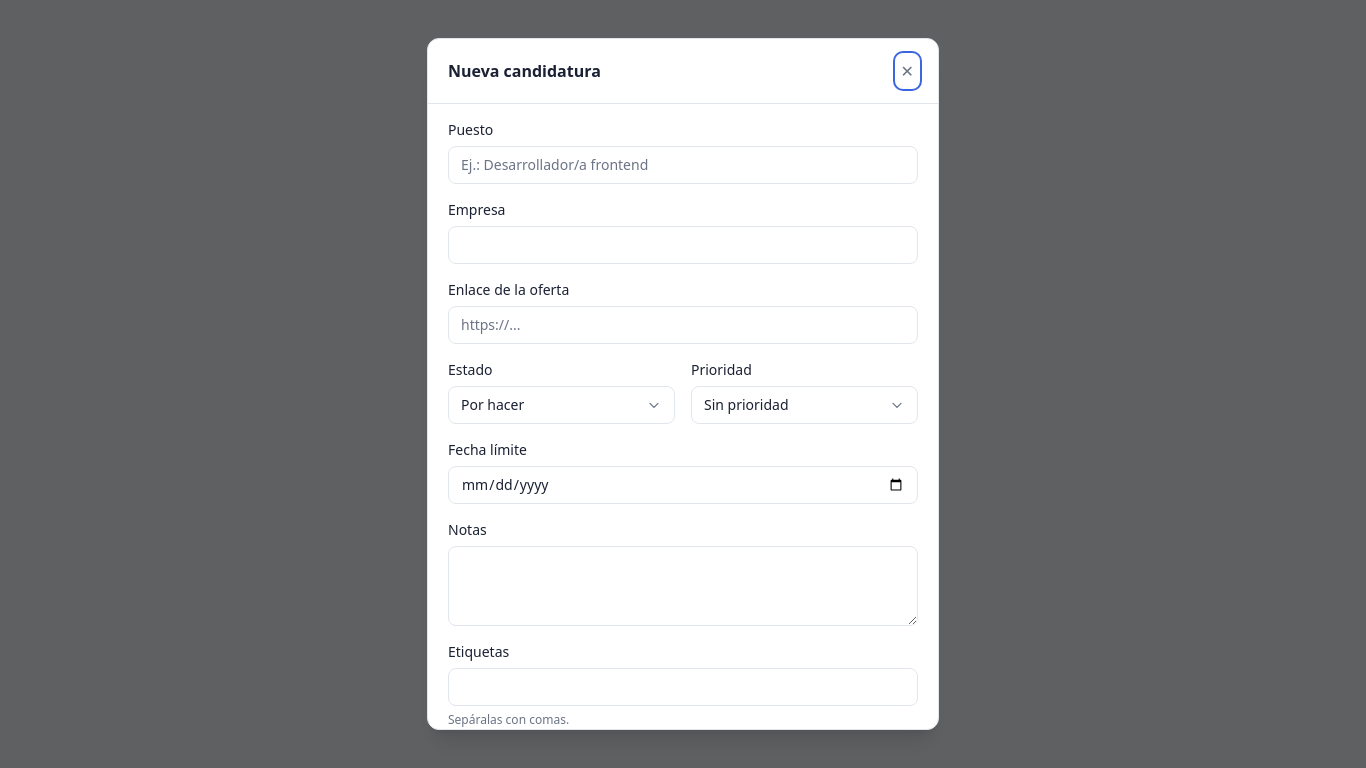
Test: CreateCardModal › valida el título y la URL sin enviar nada
This screenshot has width=1366, height=768.
Type "no-es-url" into the field labelled "Enlace de la oferta".
click(683, 325); type("no-es-url")  # box [448,306,918,344]
(page scrolled)
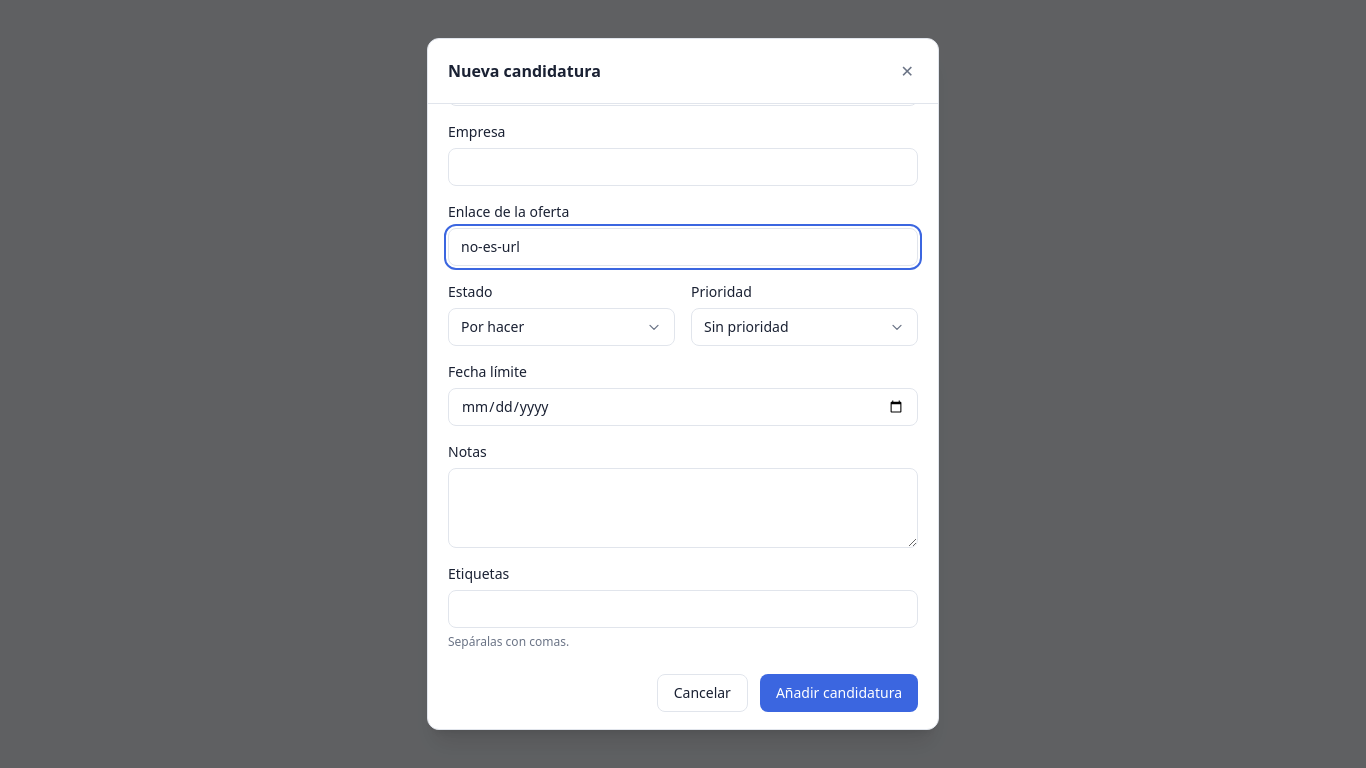
Click the button "Añadir candidatura".
click(839, 693)  # box [760,674,918,712]
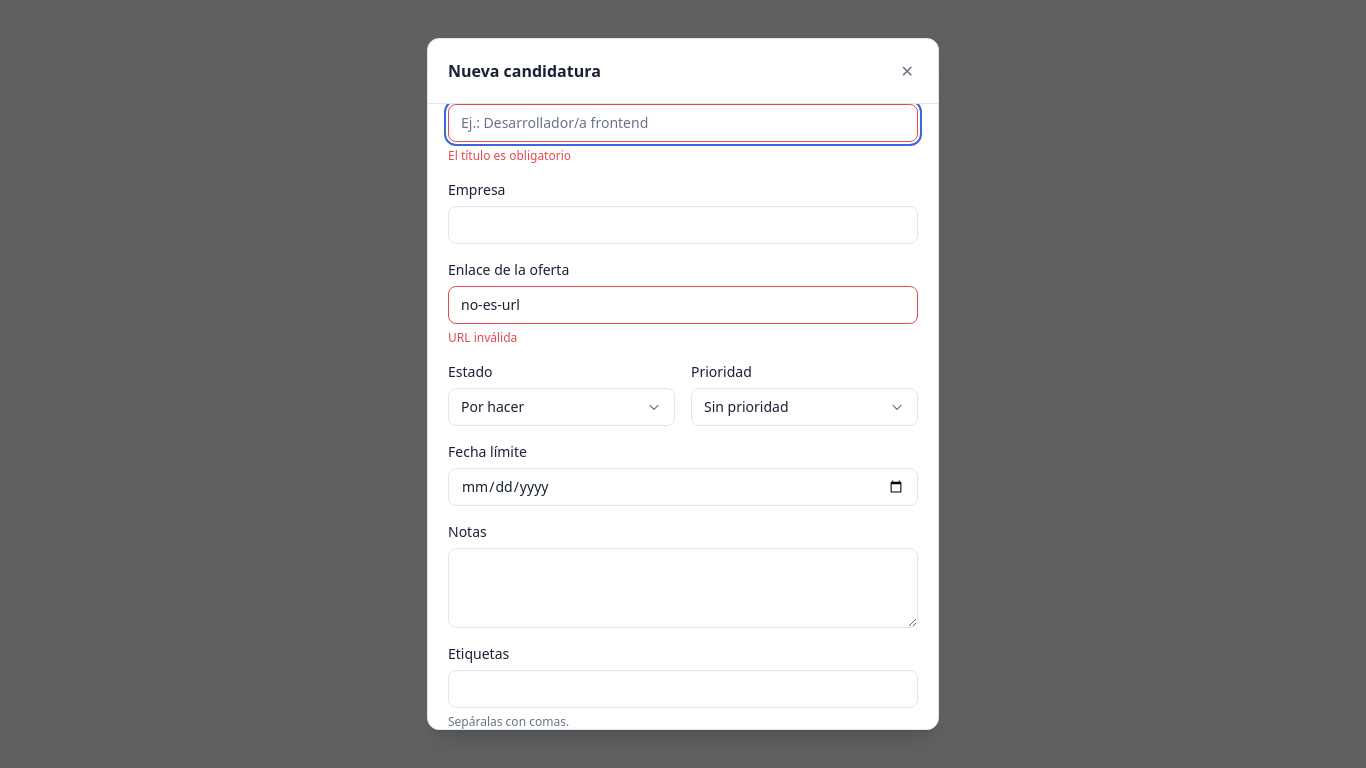
Check: the text "El título es obligatorio" is shown, box [448,147,571,164]
Check: the text "URL inválida" is shown, box [448,329,517,346]
